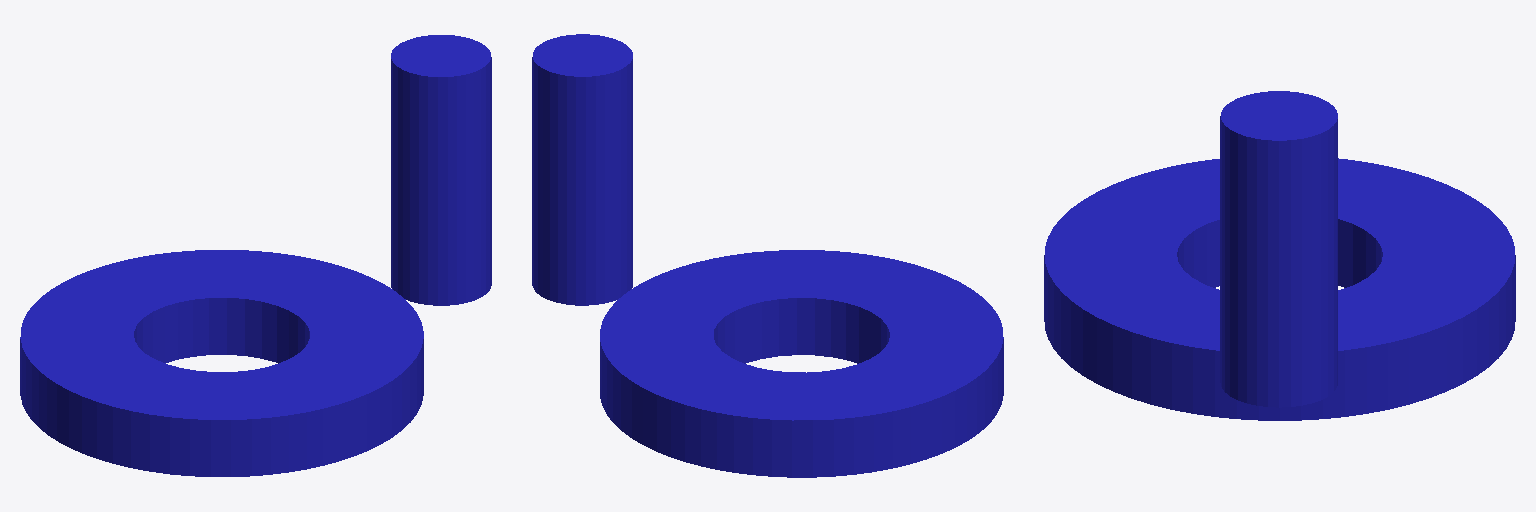
The robot description file, URDF, robot "disk2":
<?xml version="1.0" ?>
<robot name="disk2" xmlns:xacro="http://ros.org/wiki/xacro">
  <material name="blue">
    <color rgba="0.2 0.2 0.8 1"/>
  </material>
  <link name="base_link">
    <visual>
      <origin rpy="0 0 0" xyz="0 0 0"/>
      <geometry>
        <mesh filename="package://tower_of_hanoi/disk2.stl" scale="0.1 0.1 0.1"/>
      </geometry>
      <material name="blue"/>
    </visual>
    <collision>
      <origin rpy="0 0 0" xyz="0 0 0"/>
      <geometry>
        <mesh filename="package://tower_of_hanoi/disk2_col2.stl" scale="0.1 0.1 0.1"/>
      </geometry>
    </collision>
    <inertial>
      <!-- CENTER OF MASS -->
      <origin rpy="0 0 0" xyz="0 0 0"/>
      <mass value="0.01"/>
      <!--Thick-walled cylindrical tube with open ends inertia: I_x = I_y = 1/12*m(3*(r1^2+r2^2)+h^2), I_z = 0.5*m(r1^2+r2^2) -->
      <!-- r1 = 0.035, r2 = 0.08, h = 0.025 -->
      <inertia ixx="1.9583333333333336e-05" ixy="0" ixz="0" iyy="1.9583333333333336e-05" iyz="0" izz="3.8125000000000005e-05"/>
    </inertial>
  </link>
  <joint name="tip_joint" type="fixed">
    <!-- <origin rpy="0 0 0" xyz="0.09 0 0.06125"/> -->
    <origin rpy="0 0 0" xyz="0.1 0 0.06125"/>
    <parent link="base_link"/>
    <child link="tip"/>
  </joint>
  <link name="tip">
    <visual>
      <origin rpy="0 0 0" xyz="0 0 0"/>
      <geometry>
        <cylinder length="0.1" radius="0.02"/>
      </geometry>
      <material name="blue"/>
    </visual>
    <collision>
      <origin rpy="0 0 0" xyz="0 0 0"/>
      <geometry>
        <cylinder length="0.1" radius="0.02"/>
      </geometry>
    </collision>
    <!-- dummy inertial params -->
    <inertial>
      <origin rpy="0 0 0" xyz="0 0 0"/>
      <mass value="1e-8"/>
      <inertia ixx="1e-12" ixy="0" ixz="0" iyy="1e-12" iyz="0" izz="1e-12"/>
    </inertial>
  </link>
</robot>

--- Facts derived from the render (not from the file) ---
Views: 3 orthographic renders of the robot side by side, from view 1: azimuth 30°, elevation 25°; view 2: azimuth 150°, elevation 25°; view 3: azimuth 270°, elevation 25°.
Model disk2 with 2 links and 1 joints (1 fixed), rooted at base_link, posed every joint at zero.
Visible links, largest first — view 1: base_link, tip; view 2: base_link, tip; view 3: base_link, tip.
Link boxes in pixels (x1,y1,x2,y2): base_link: (20, 250, 423, 476); tip: (391, 35, 491, 305); base_link: (600, 250, 1003, 477); tip: (532, 34, 632, 305); base_link: (1044, 158, 1515, 420); tip: (1220, 91, 1337, 407).
Bounding box of the posed robot: 0.2002 × 0.16 × 0.1238 m (x, y, z).
Meshes: 1 distinct files referenced, 1 mesh visuals loaded (1 binary STL).